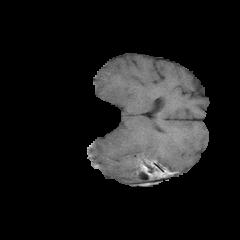glioma: (119, 131, 199, 179)
